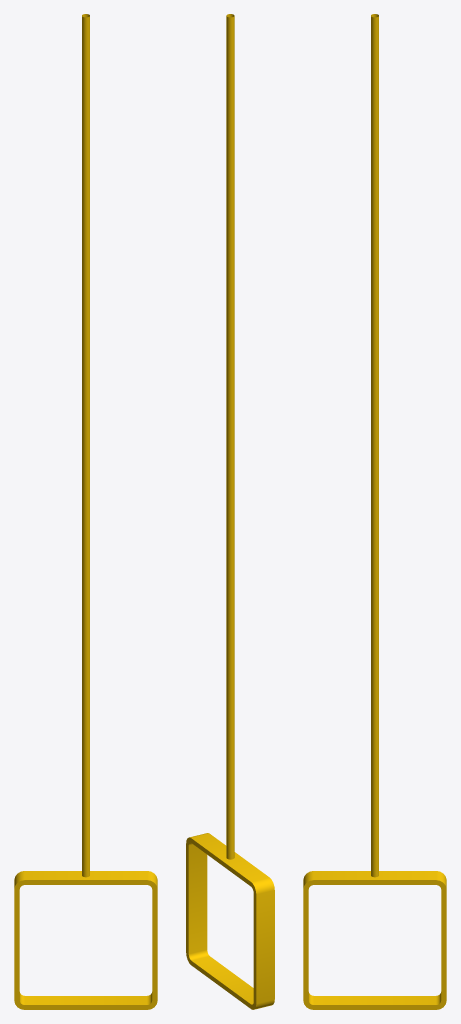
Rendered from cutter2_cube.fbx.
3 views of the same model, side by side, from view 1: azimuth 90°, elevation 25°; view 2: azimuth 210°, elevation 25°; view 3: azimuth 270°, elevation 25° (orthographic). The views are drawn at different scales.
Visible parts, largest first — view 1: Cutter2_Cube; view 2: Cutter2_Cube; view 3: Cutter2_Cube.
Part boxes in pixels (<box>): Cutter2_Cube: <box>14,14,157,1009</box>; Cutter2_Cube: <box>186,14,274,1009</box>; Cutter2_Cube: <box>303,14,446,1009</box>.
Bounding box in the file's own units: 16.5 × 824 × 108.
